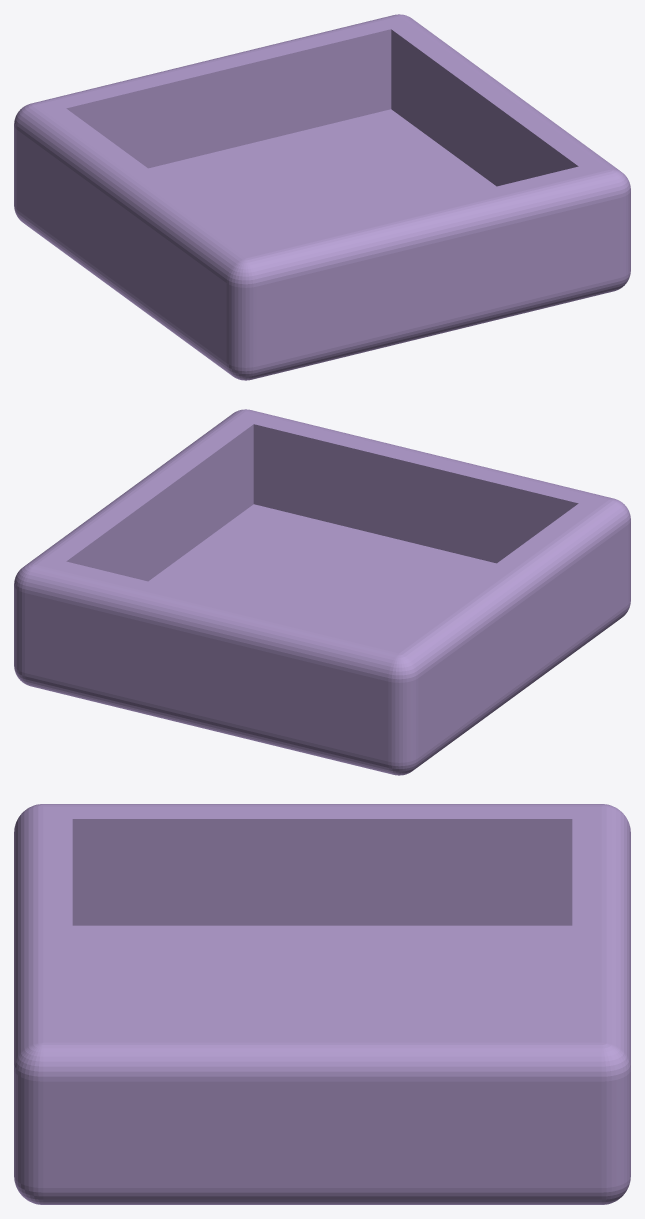
Rendered from container_l.dae.
The picture shows the model from 3 angles, top to bottom: view 1: azimuth 30°, elevation 25°; view 2: azimuth 150°, elevation 25°; view 3: azimuth 270°, elevation 25°; orthographic projection. The views are drawn at different scales.
Visible parts, largest first — view 1: 产品1; view 2: 产品1; view 3: 产品1.
Part boxes in pixels (x1,y1,x2,y2): 产品1: (14,14,630,380); 产品1: (14,409,630,775); 产品1: (14,804,630,1204).
Bounding box in the file's own units: 0.105 × 0.105 × 0.03.
